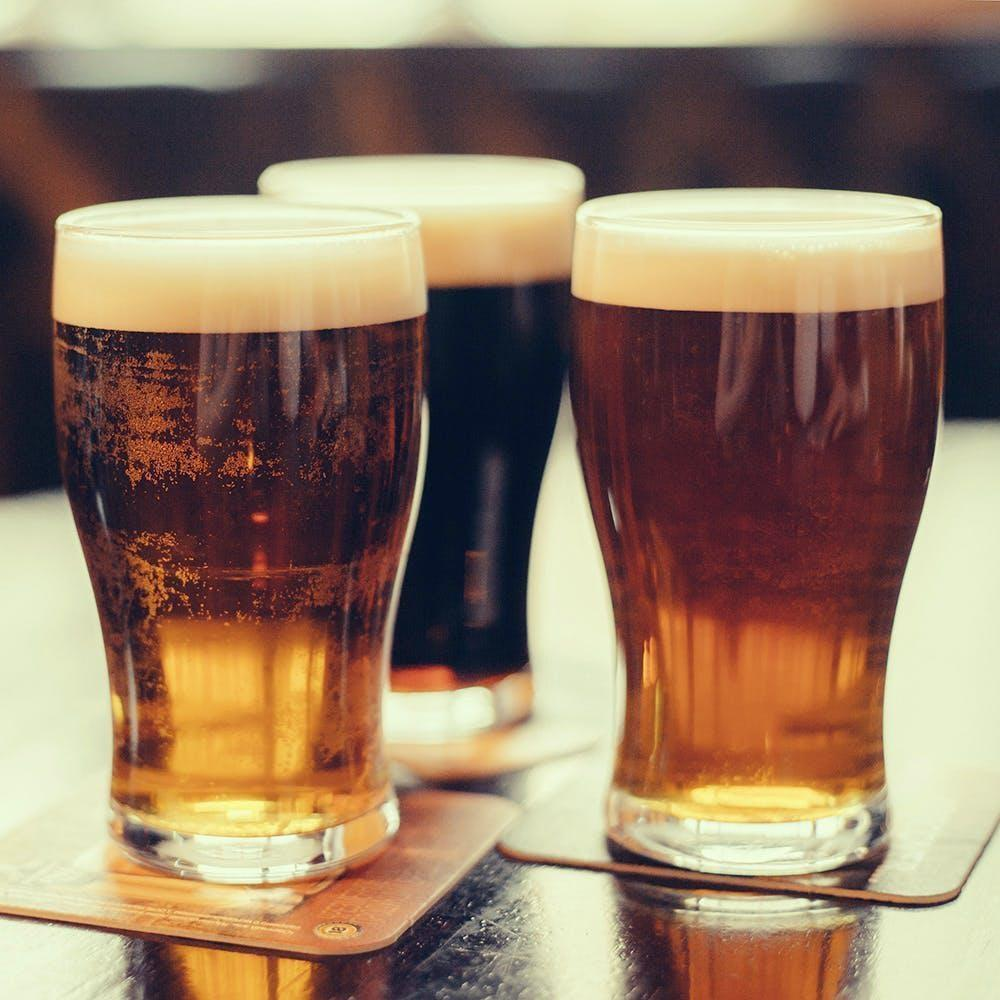glass-normal: (46, 193, 437, 890), (564, 185, 950, 885), (258, 155, 586, 740)
